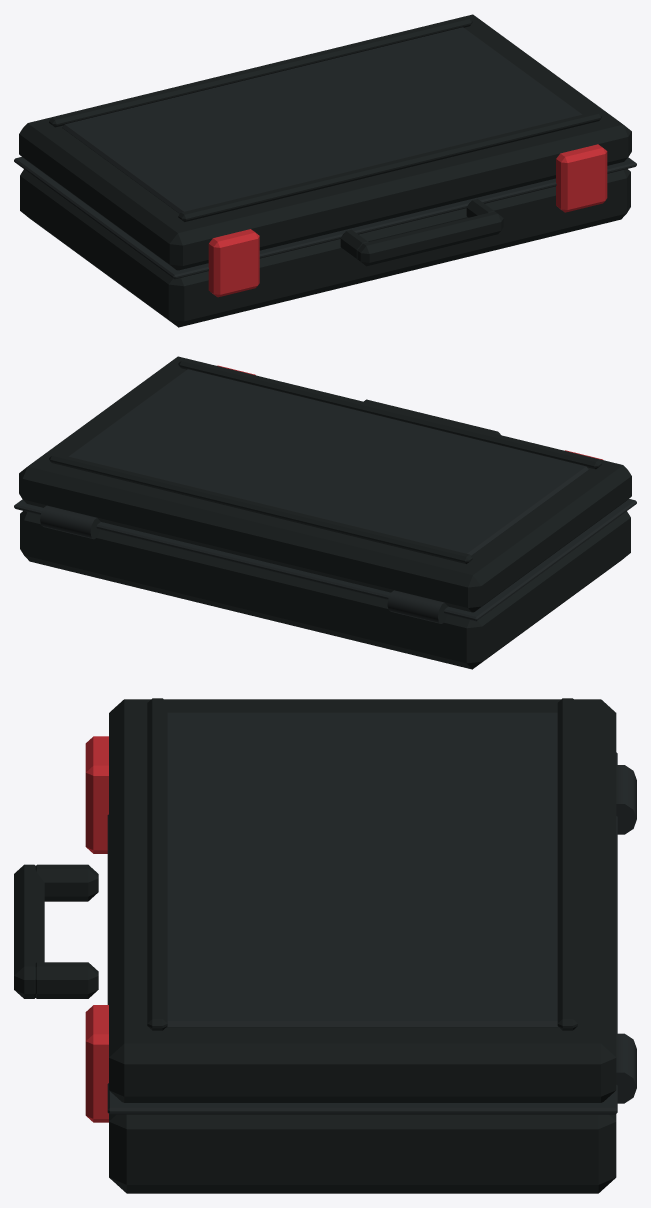
3 renders of one model, top to bottom at view 1: azimuth 30°, elevation 25°; view 2: azimuth 150°, elevation 25°; view 3: azimuth 270°, elevation 25°, orthographic. The views are drawn at different scales.
Visible parts, largest first — view 1: Black lower molded shell, Black case split line, Bright red clasp; view 2: Black lower molded shell, Black case split line; view 3: Black case split line, Black lower molded shell, Bright red clasp.
Boxes of the visible parts, x1,y1,x2,y2 form: Black lower molded shell: [19, 14, 631, 327]; Black case split line: [14, 27, 636, 279]; Bright red clasp: [208, 144, 607, 297]; Black lower molded shell: [19, 356, 631, 669]; Black case split line: [14, 369, 636, 623]; Black case split line: [107, 712, 636, 1114]; Black lower molded shell: [14, 698, 616, 1193]; Bright red clasp: [85, 736, 108, 1122].
Size of the model in its own units: 0.331 by 0.0705 by 0.243.
